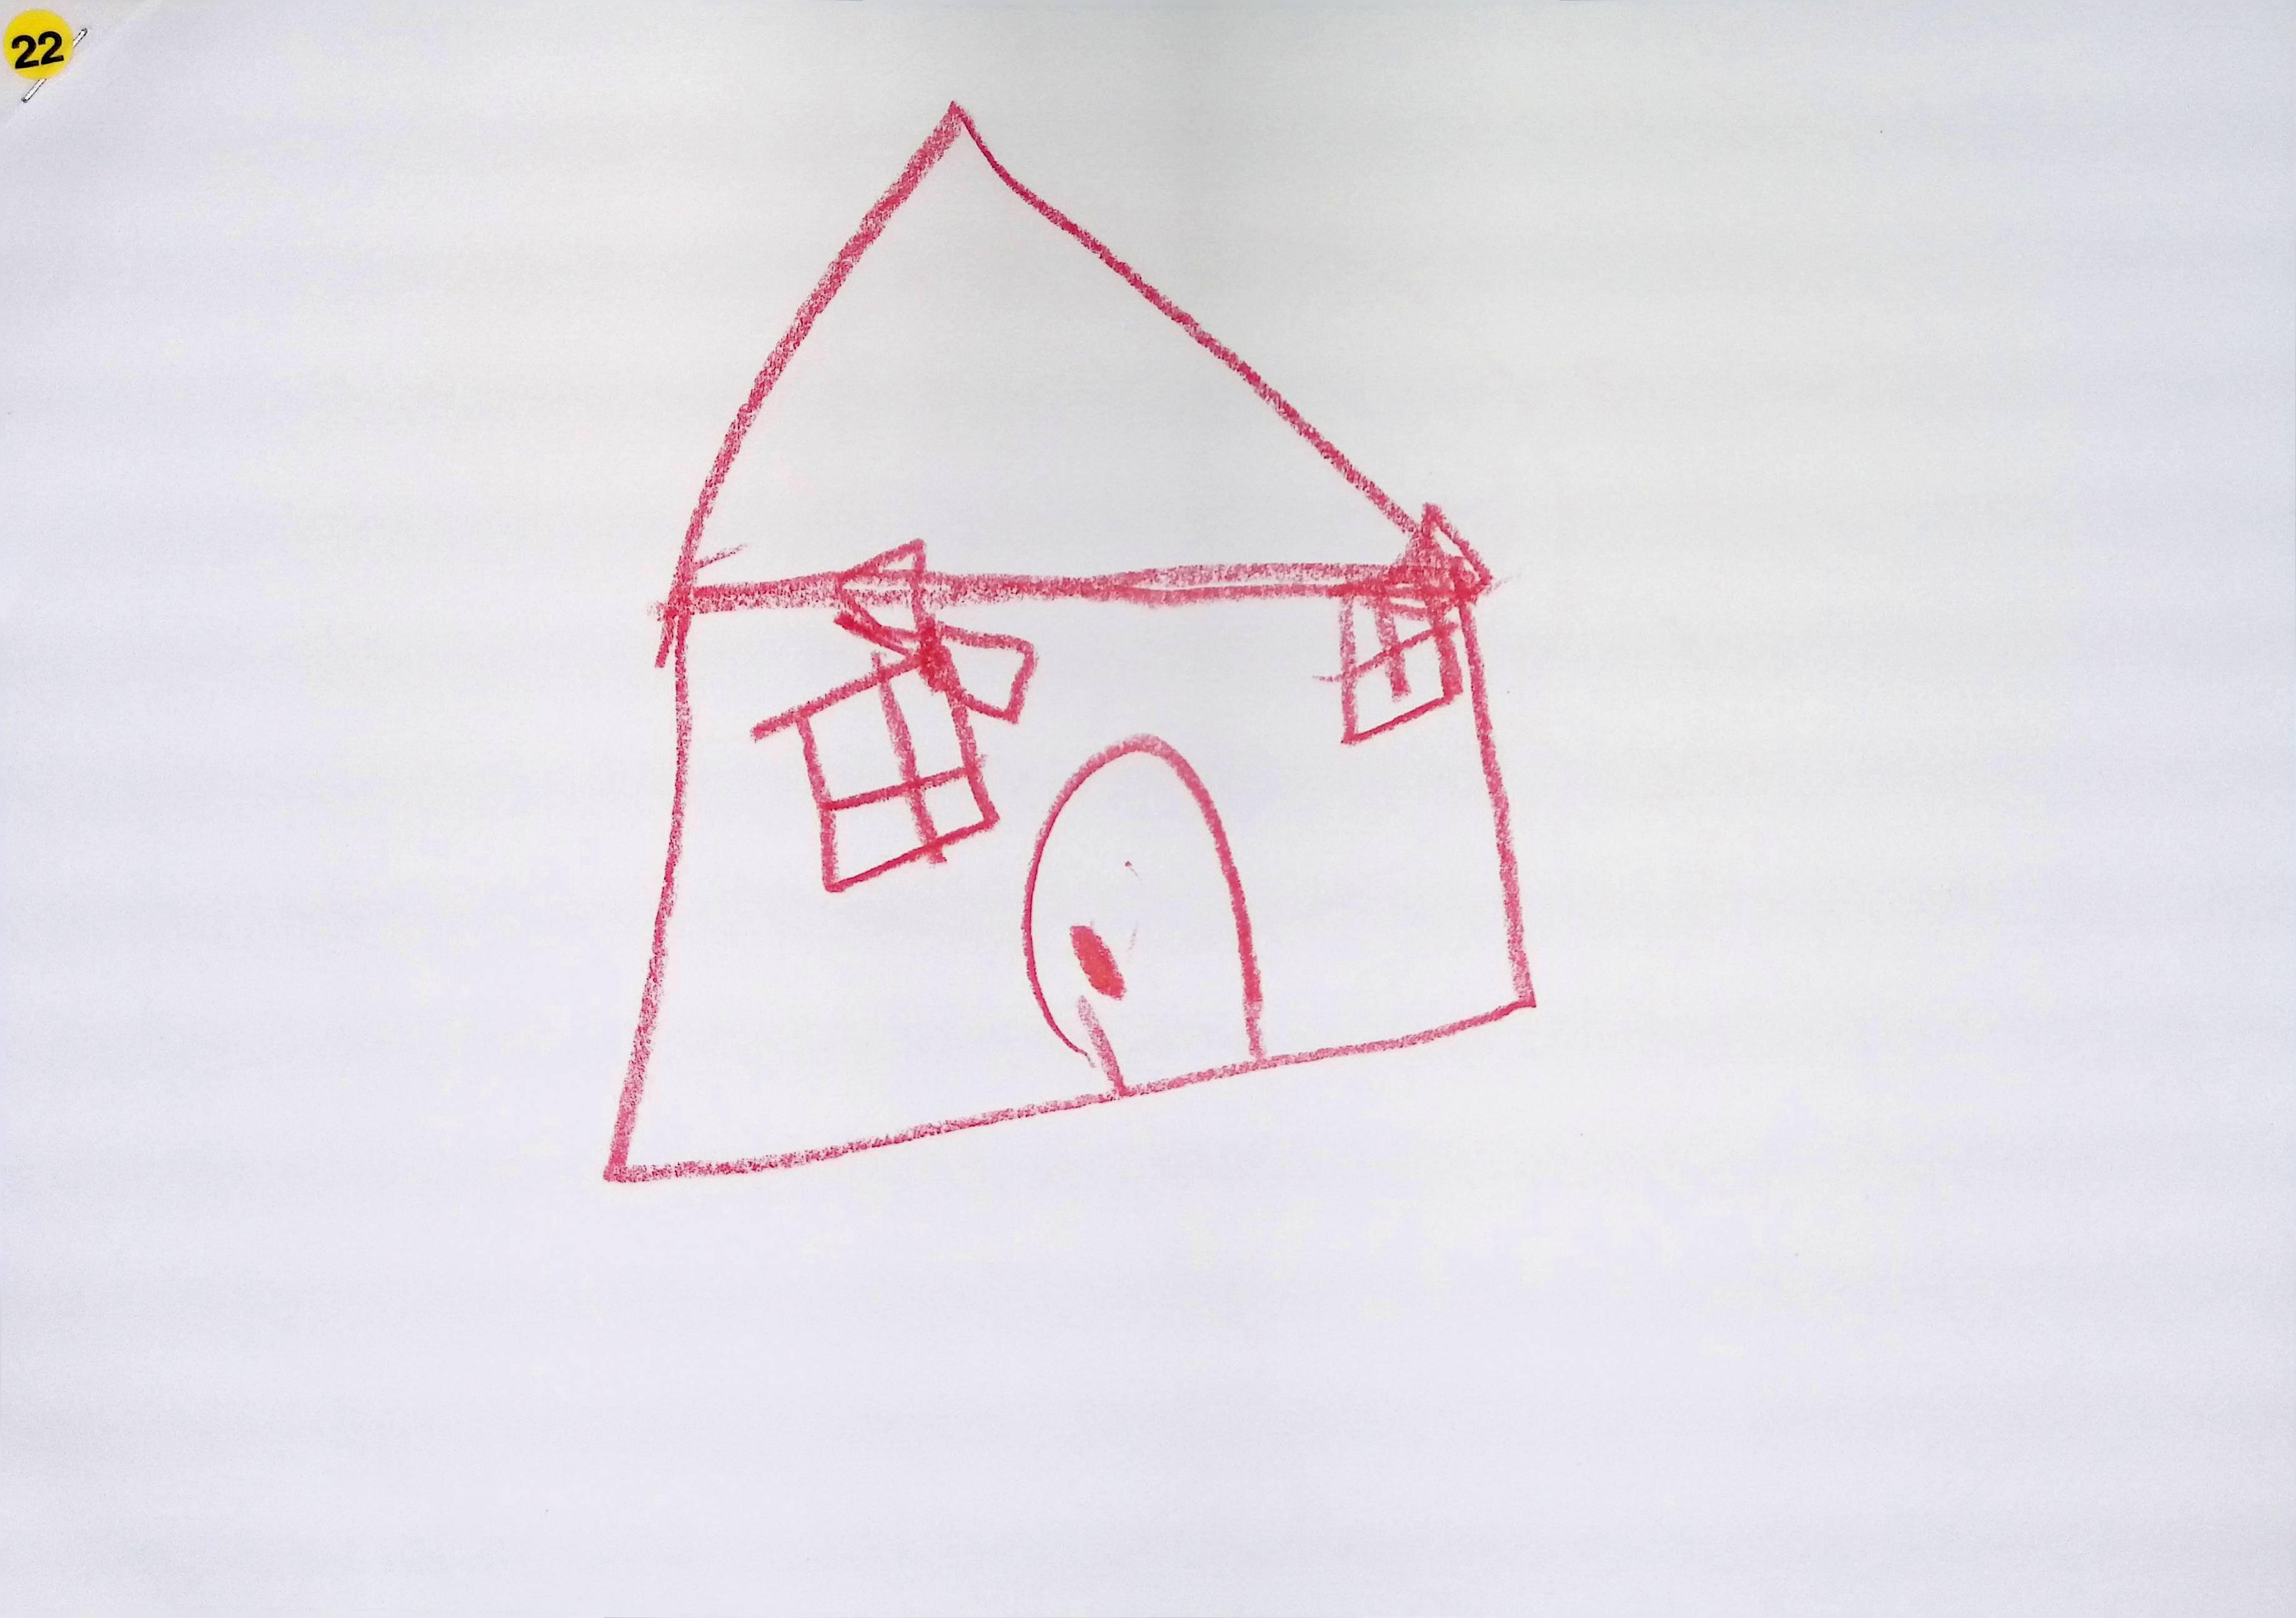door: (1025, 734, 1266, 1094)
house: (608, 103, 1534, 1182)
roof: (676, 107, 1452, 587)
wall: (608, 574, 1532, 1175)
window: (751, 539, 1037, 891), (1329, 518, 1466, 742)
